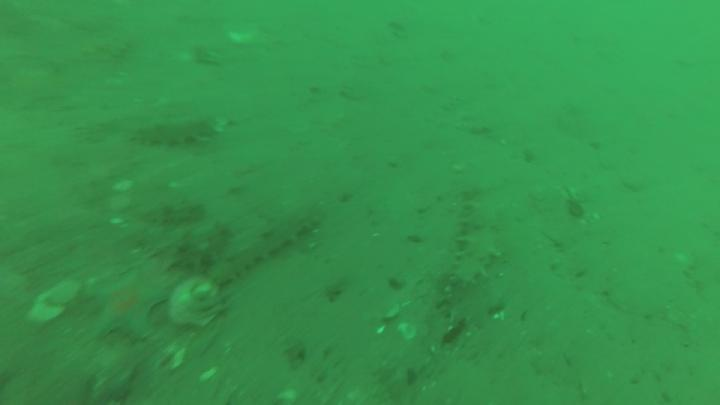holothurian: (216, 210, 318, 285), (458, 185, 503, 286), (146, 232, 228, 274), (136, 116, 214, 149), (138, 201, 199, 226)
scallop: (34, 289, 70, 322), (112, 179, 134, 191)
starfish: (93, 278, 171, 342)
